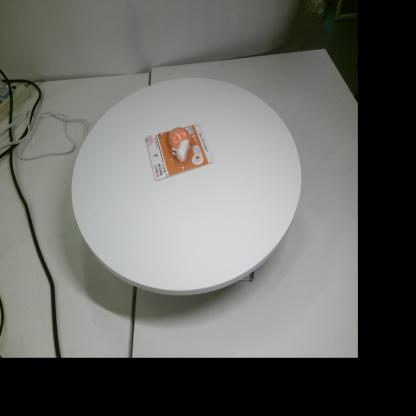Stationery: (146, 124, 214, 181)
